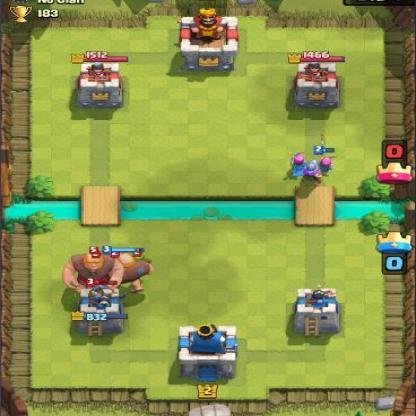ally_archer: (312, 144, 337, 174), (286, 148, 310, 179)
ally_giant: (101, 245, 156, 294)
ally_musketeer: (300, 159, 326, 183)
enemy_giant: (63, 245, 124, 297)
enemy_goblin: (126, 249, 155, 276), (104, 249, 127, 275), (84, 250, 106, 275)
enemy_mini_pekka: (86, 277, 119, 308)
